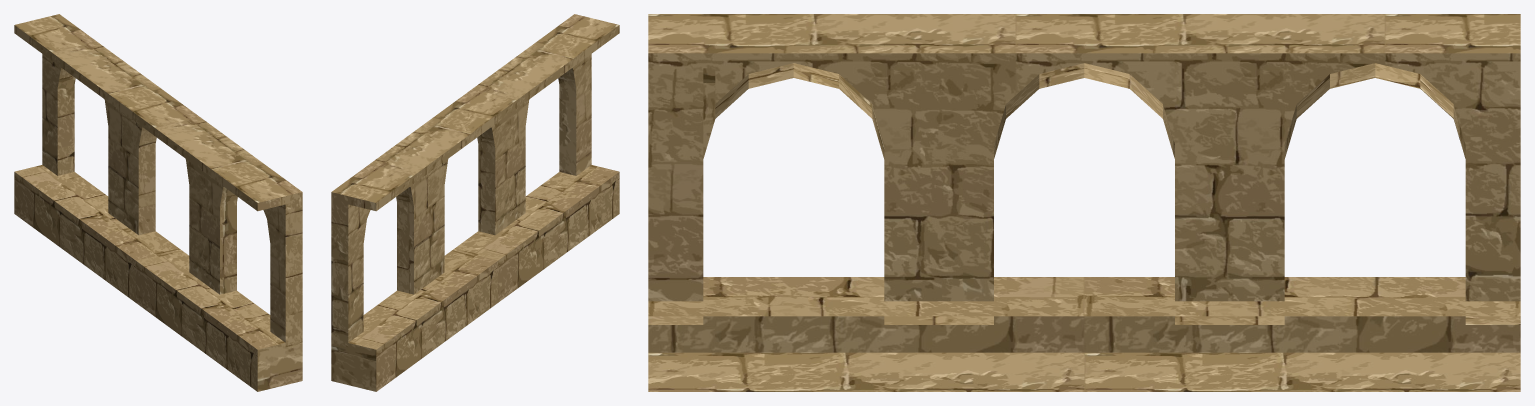
File: corridor_3.fbx
The picture shows the model from 3 angles, left to right: view 1: azimuth 30°, elevation 25°; view 2: azimuth 150°, elevation 25°; view 3: azimuth 270°, elevation 25°; orthographic projection. The views are drawn at different scales.
Parts seen in each view (by area): view 1: polySurface1959; view 2: polySurface1959; view 3: polySurface1959.
Part boxes in pixels (<box>): polySurface1959: <box>14,14,302,391</box>; polySurface1959: <box>331,14,619,391</box>; polySurface1959: <box>648,14,1520,391</box>.
Bounding box in the file's own units: 37.92 × 152 × 355.
